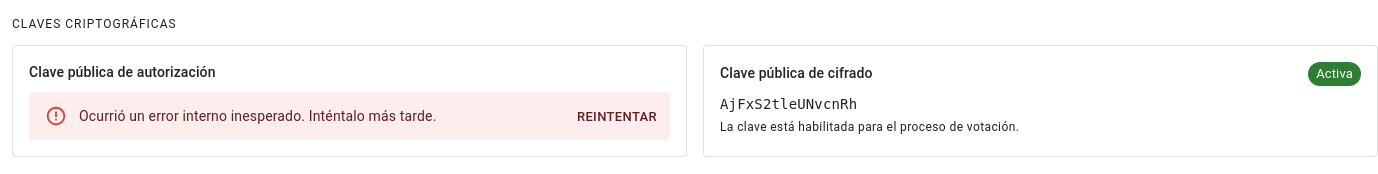
Scenario: ElectionKeysPanel › permite reintentar la consulta si un servicio falla
What coordinates should you click on to do the following:
click the button "Reintentar"
I would click on:
 (617, 117)
Its box is [572,102,662,133].
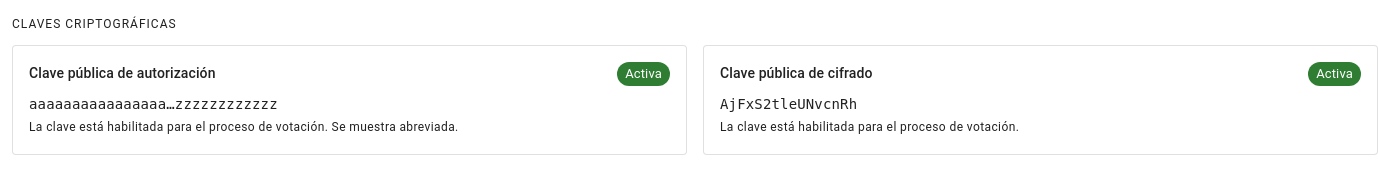
Expected: the text "Activa" is shown 2 times, [625,66,662,81]; [1316,66,1353,81]
Expected: the message "Ocurrió un error interno inesperado. Inténtalo más tarde. Reintentar" is gone
